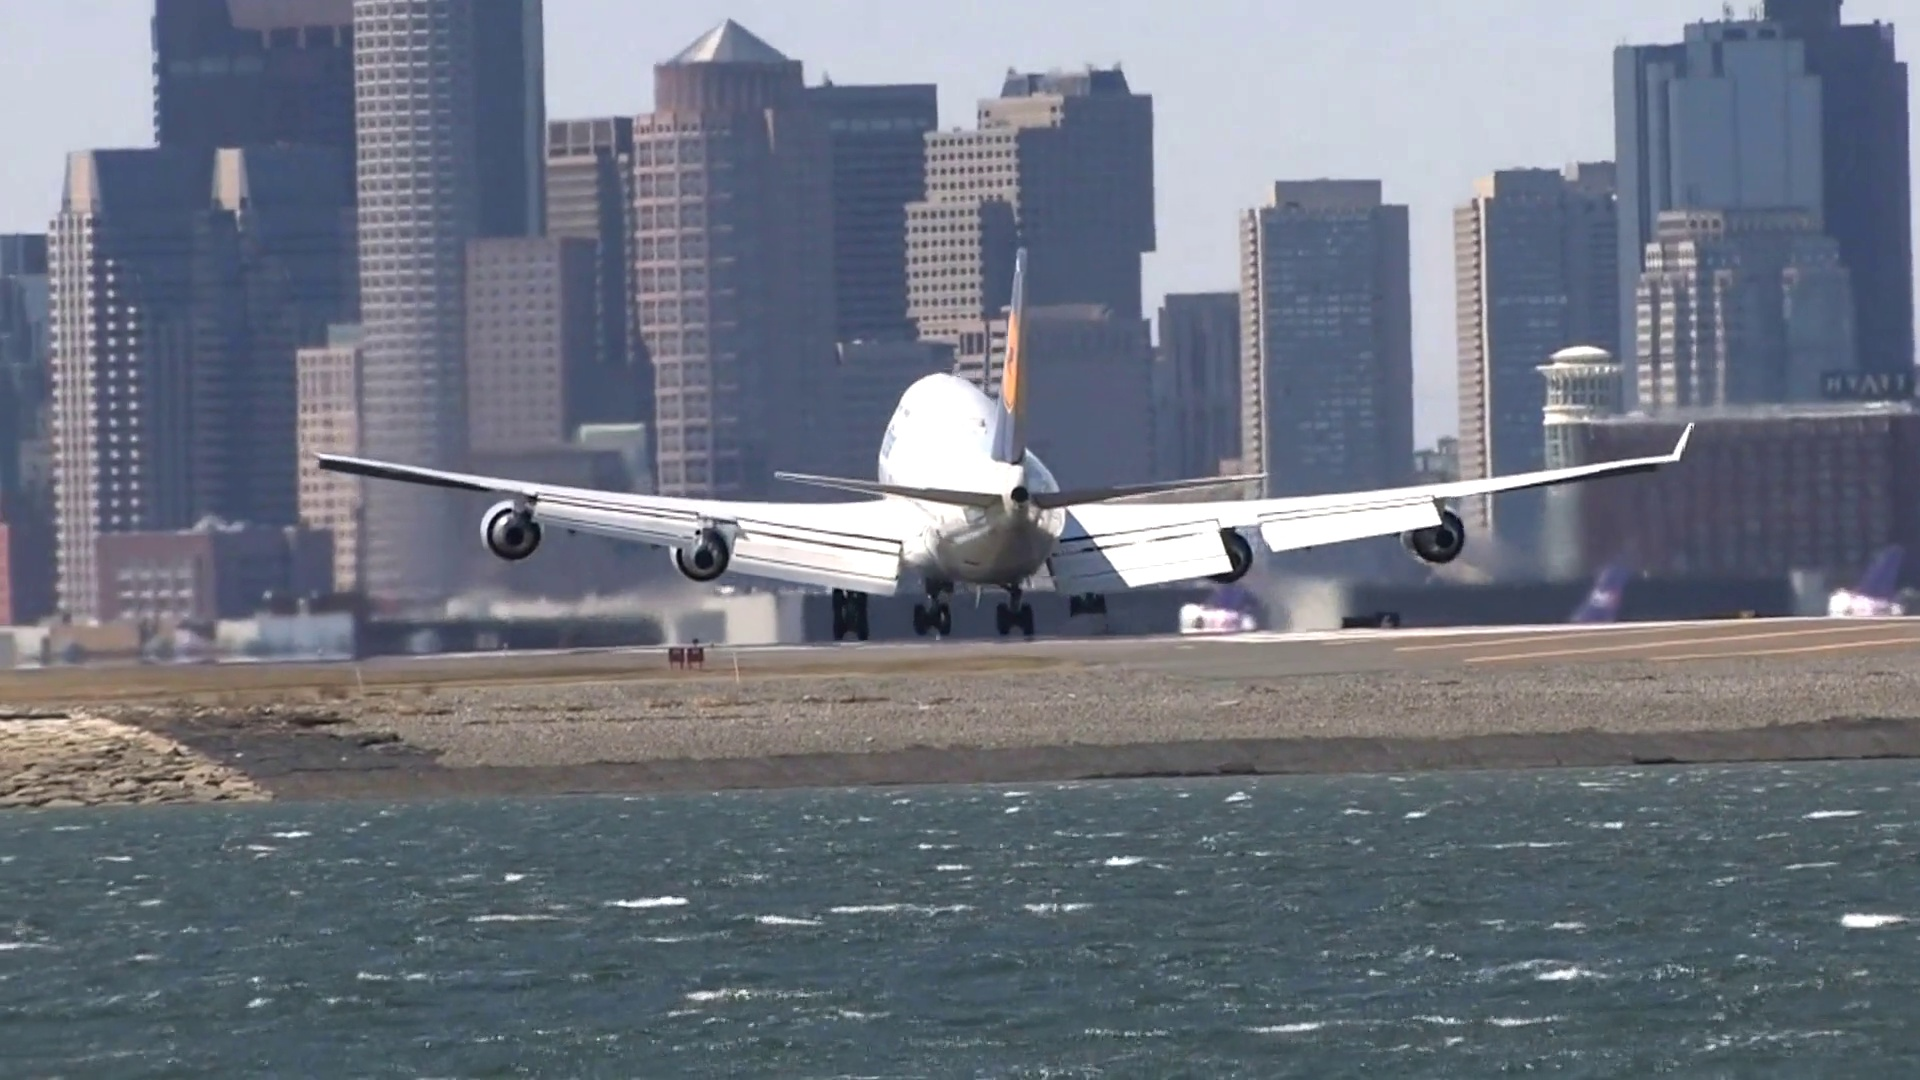plane: (315, 243, 1695, 638)
